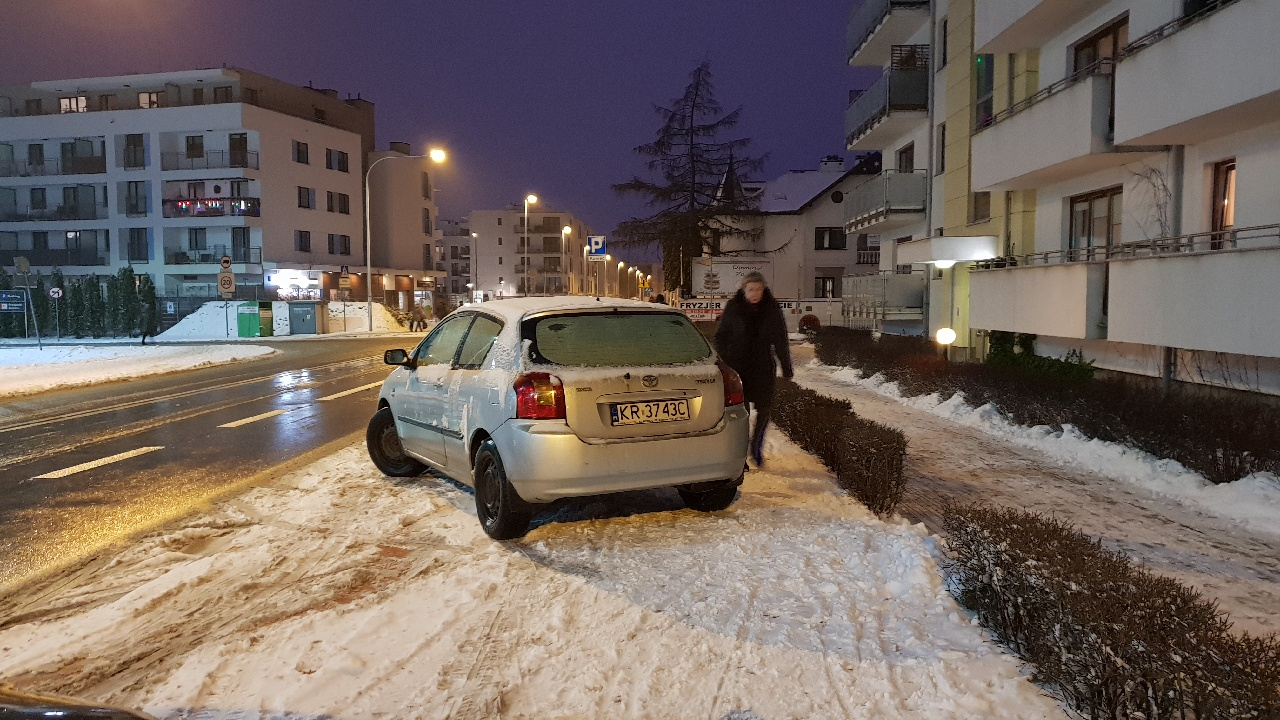D18: (583, 233, 611, 254)
